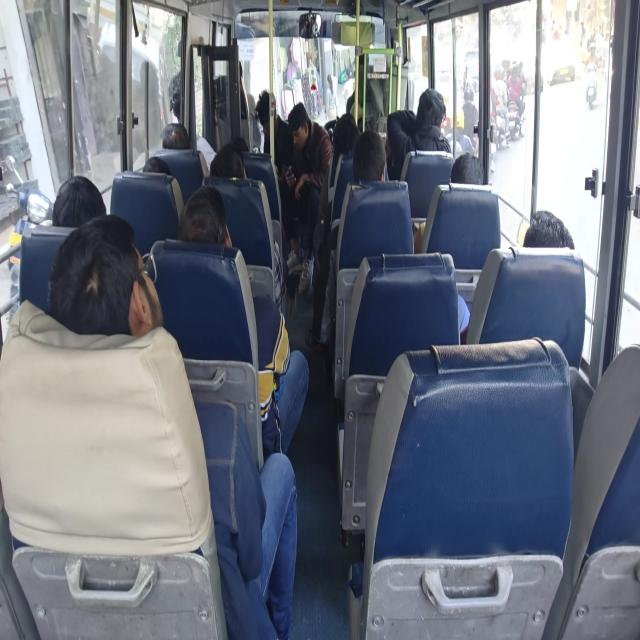person: (47, 212, 298, 638), (177, 184, 309, 460), (305, 130, 388, 352), (458, 209, 575, 341), (6, 174, 106, 324), (209, 142, 288, 314), (414, 152, 484, 334), (282, 102, 332, 292), (255, 89, 300, 264), (385, 88, 452, 180), (287, 102, 332, 194), (255, 89, 294, 182), (177, 184, 232, 248), (52, 175, 106, 227), (522, 209, 575, 249), (210, 143, 247, 179), (449, 152, 484, 184), (462, 87, 478, 141), (161, 122, 190, 149), (325, 74, 338, 120), (142, 156, 171, 174)
